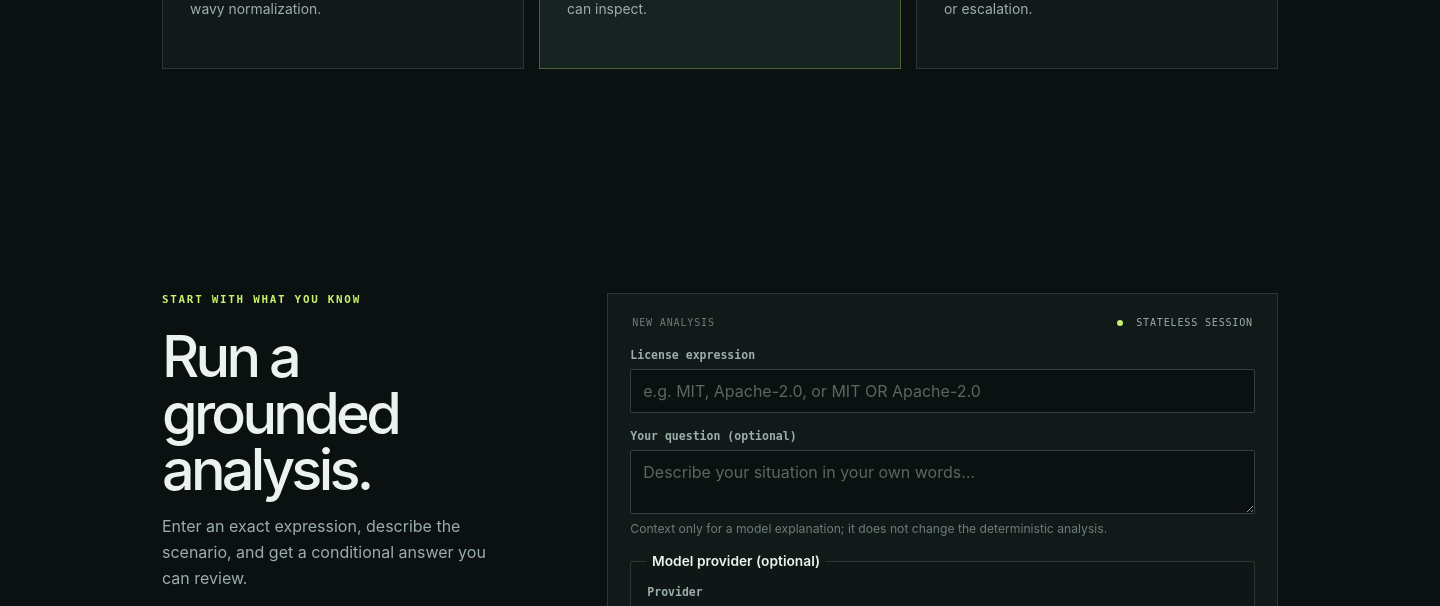
Scenario: analysis experience › renders a timeout state for an aborted request
(page scrolled)
In the field labelled "License expression": (943,391) [630, 369, 1255, 413], type "Apache-2.0"
(page scrolled)
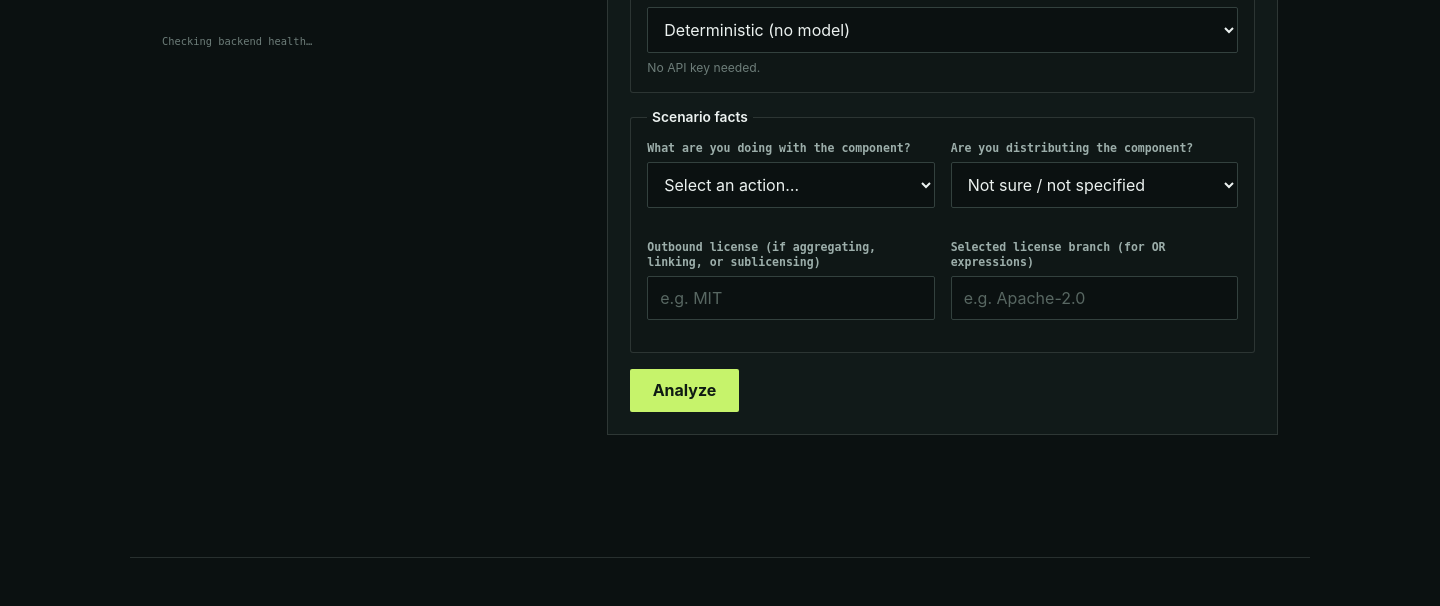
Click the button "Analyze": (685,390) [630, 369, 739, 412]
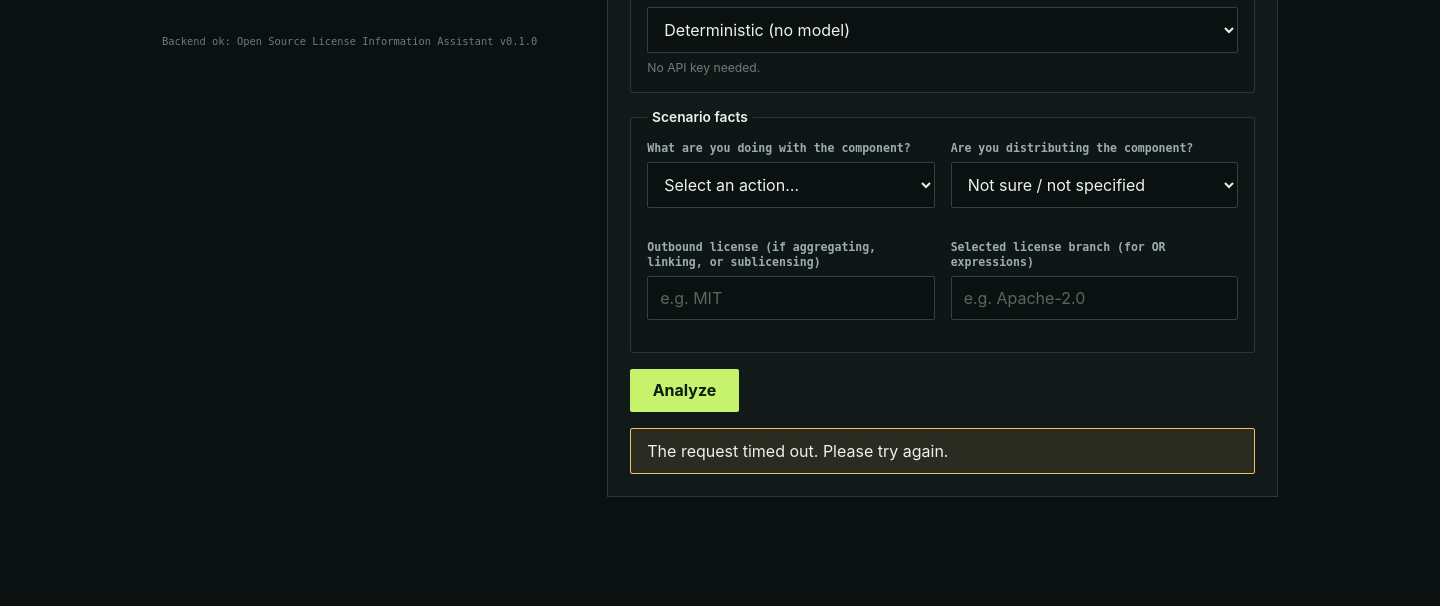
Now the message "The request timed out. Please try again." is shown, box [630, 428, 1255, 474]
